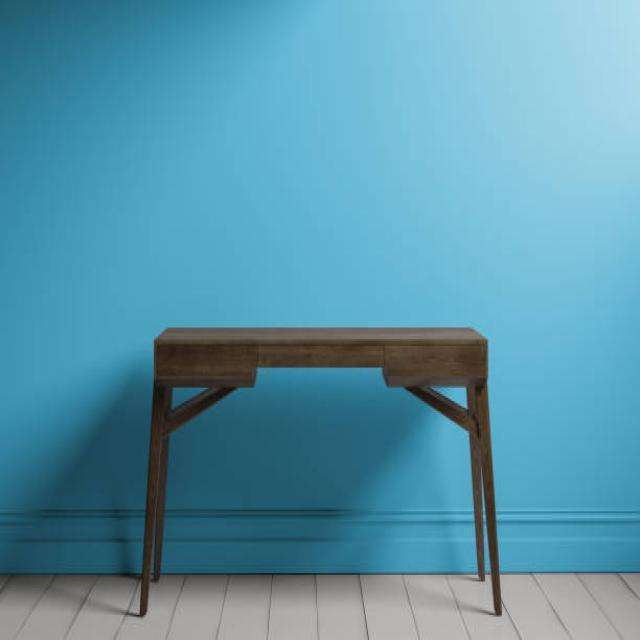table: (138, 324, 502, 617)
